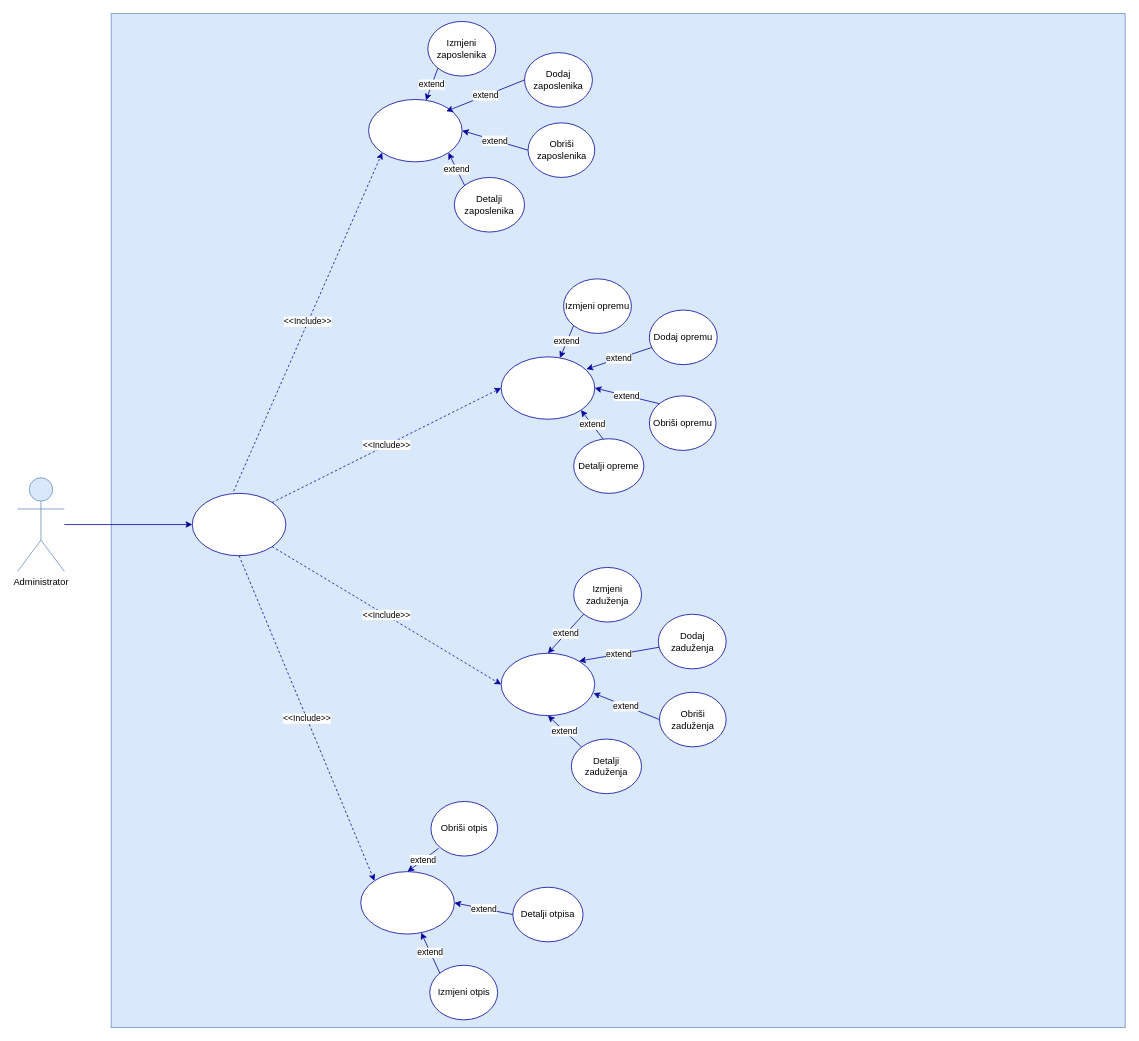
The diagram is 1139 pixels wide and 1041 high, and some of its shapes have lost their labels. Here are the shapes that lost their labels. From the top down, the centre of each, then its label:
At (415,130): "Pregled zaposlenika".
At (547,387): "Pregled opreme".
At (238,524): "Prijava".
At (547,684): "Pregled zaduženja".
At (407,902): "Pregled otpisa".
